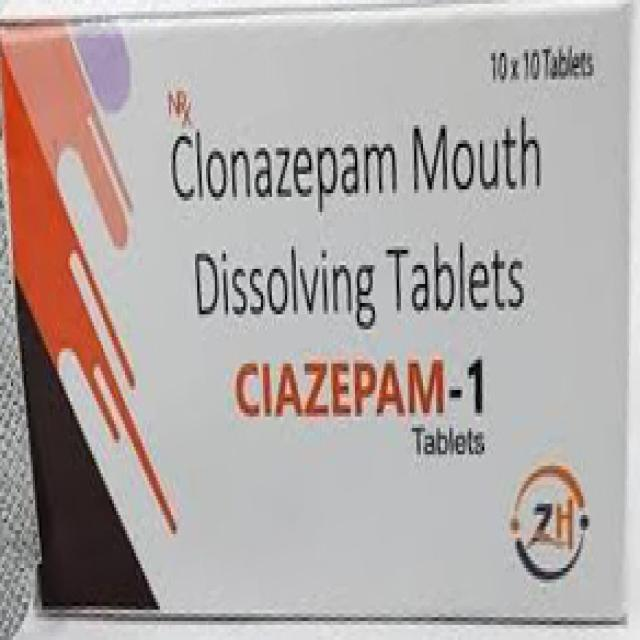drug-name: (235, 356, 490, 421)
